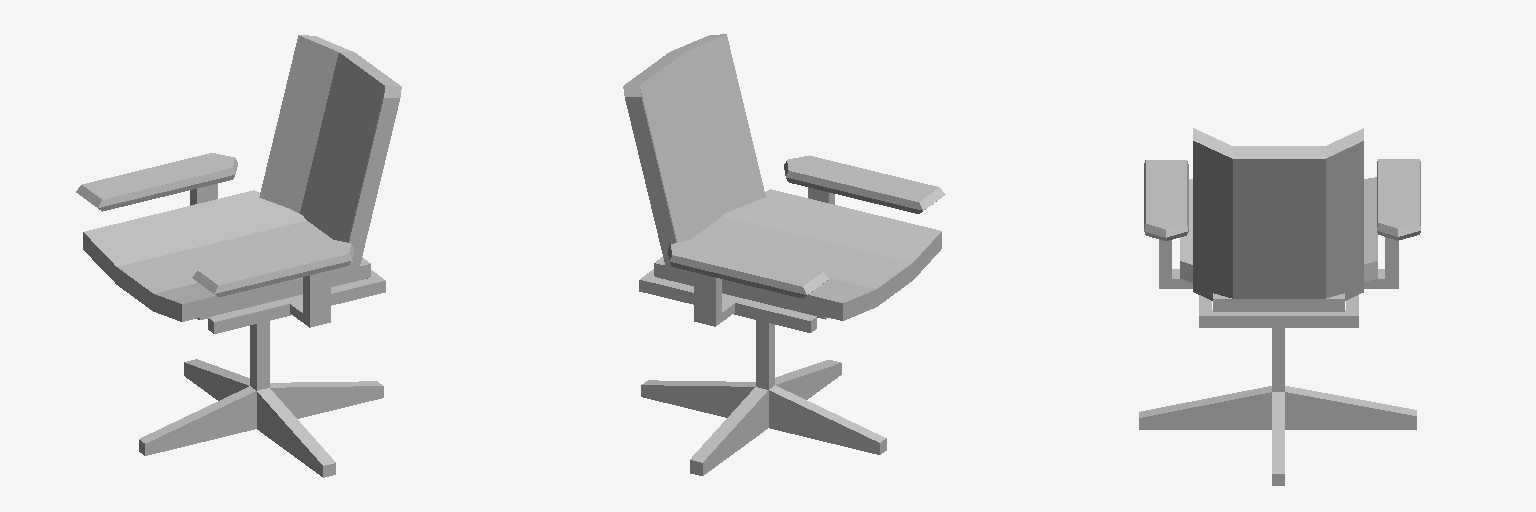
File: DeskChair.obj
3 renders of one model, left to right at view 1: azimuth 30°, elevation 25°; view 2: azimuth 150°, elevation 25°; view 3: azimuth 270°, elevation 25°, orthographic.
Parts seen in each view (by area): view 1: pCube7, pCube6, pCube1, pCube8, pCube9, pCube3; view 2: pCube7, pCube6, pCube1, pCube9, pCube8, pCube2; view 3: pCube7, pCube1, pCube9, pCube8, pCube6, pCube4, pCube5, pCube2, pCube3.
Part boxes in pixels (x1,y1,x2,y2): pCube7: (259,35,401,281); pCube6: (83,190,352,321); pCube1: (139,321,383,477); pCube8: (76,153,237,211); pCube9: (192,239,353,296); pCube3: (208,270,385,333); pCube7: (623,34,765,280); pCube6: (672,189,941,320); pCube1: (641,320,886,475); pCube9: (784,155,945,213); pCube8: (668,240,828,298); pCube2: (639,272,816,332); pCube7: (1193,128,1363,300); pCube1: (1139,328,1416,485); pCube9: (1144,160,1188,240); pCube8: (1377,159,1420,240); pCube6: (1180,177,1377,282); pCube4: (1210,310,1345,327); pCube5: (1213,293,1344,311); pCube2: (1346,237,1398,327); pCube3: (1159,240,1211,327).
Size of the model in its own units: 4.34 by 5.67 by 4.28.